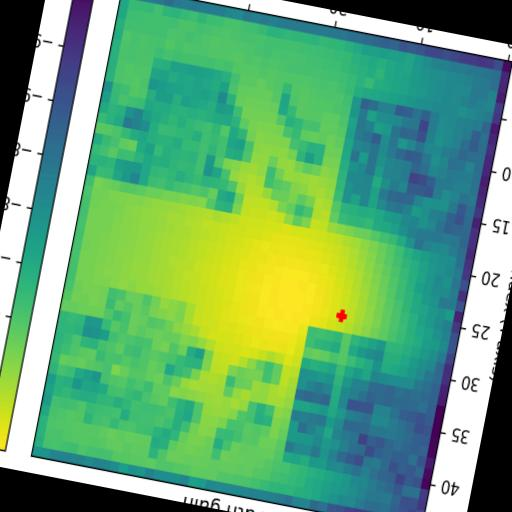Concrete: (82, 288, 188, 438)
Glass: (282, 326, 386, 476)
Metal: (128, 58, 239, 209)
Wood: (328, 97, 438, 238)
